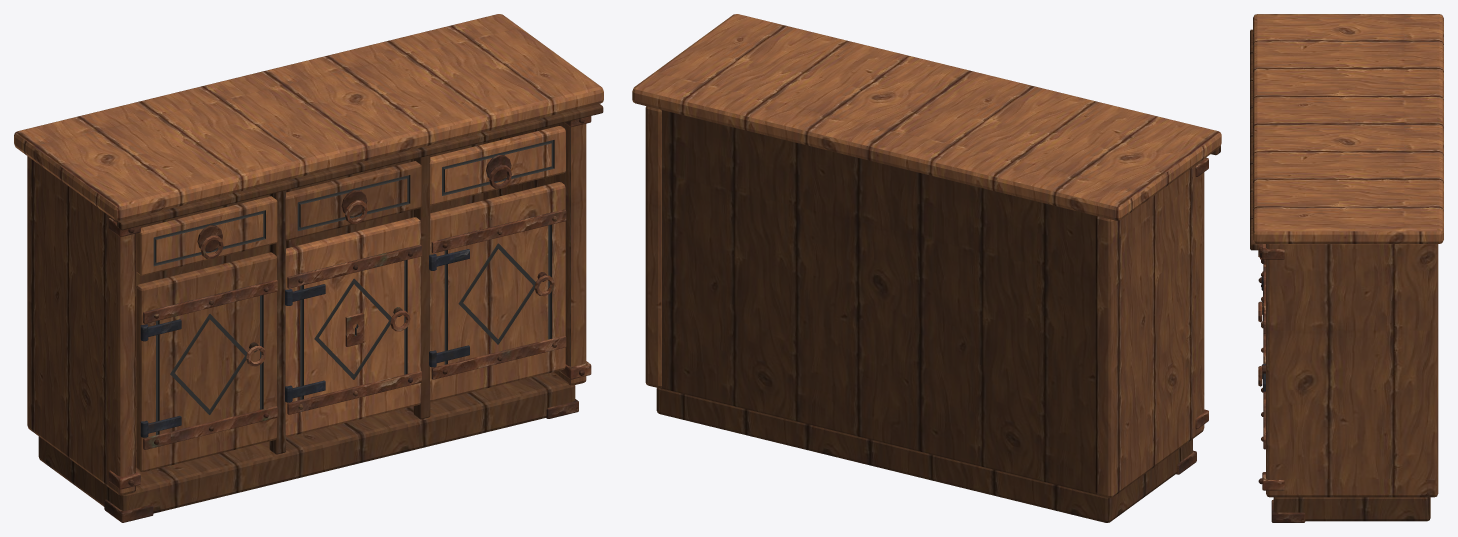
The model's file is hm_banded_sideboard.glb.
The picture shows the model from 3 angles, left to right: view 1: azimuth 30°, elevation 25°; view 2: azimuth 150°, elevation 25°; view 3: azimuth 270°, elevation 25°; orthographic projection. The views are drawn at different scales.
Visible parts, largest first — view 1: model; view 2: model; view 3: model.
Boxes of the visible parts, left/top/right/bottom form: model: left=14, top=14, right=603, bottom=522; model: left=632, top=14, right=1221, bottom=522; model: left=1250, top=14, right=1443, bottom=522.
Size of the model in its own units: 1.38 by 0.8845 by 0.5175.
Materials: 8 (7 with a texture image).
